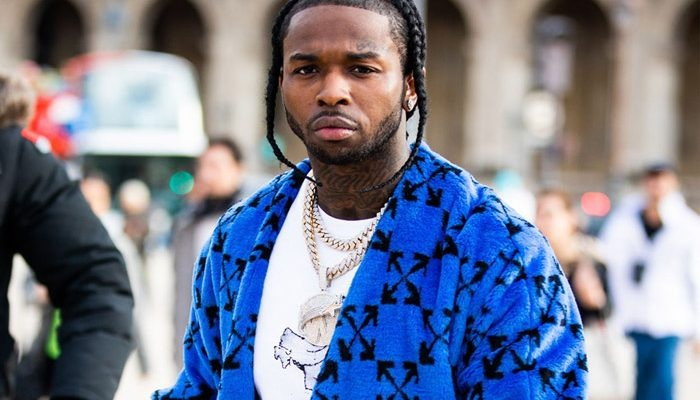mouth: (306, 114, 359, 142)
nose: (313, 92, 352, 107)
